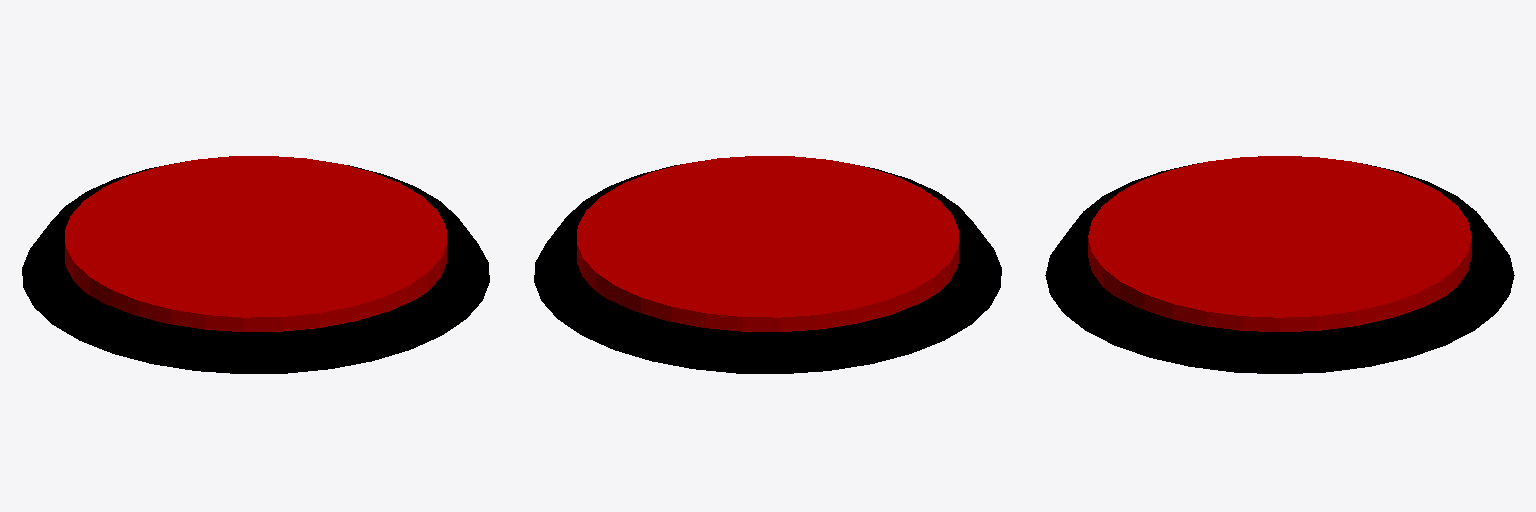
File: button.obj
3 renders of one model, left to right at view 1: azimuth 30°, elevation 25°; view 2: azimuth 150°, elevation 25°; view 3: azimuth 270°, elevation 25°, orthographic.
Parts seen in each view (by area): view 1: buttonTop, Cylinder; view 2: buttonTop, Cylinder; view 3: buttonTop, Cylinder.
Boxes of the visible parts, box(x1,y1,x2,y2) form: buttonTop: box(65, 156, 446, 331); Cylinder: box(22, 161, 489, 373); buttonTop: box(577, 156, 958, 331); Cylinder: box(534, 161, 1001, 373); buttonTop: box(1088, 156, 1471, 331); Cylinder: box(1045, 163, 1514, 373).
Bounding box in the file's own units: 3.52 × 0.32 × 3.52.